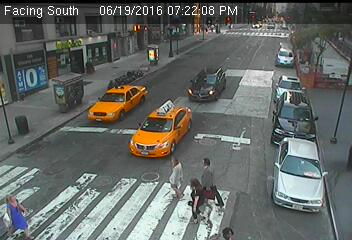neg: (184, 64, 212, 102), (89, 71, 113, 102), (108, 58, 130, 88), (44, 76, 63, 102), (151, 34, 170, 59), (75, 56, 90, 76)
pos: (176, 176, 213, 225), (194, 154, 227, 199), (153, 152, 185, 195)
